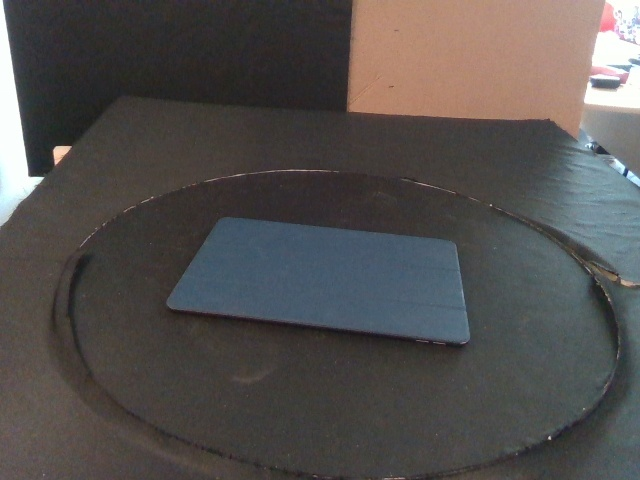laptop: (165, 216, 471, 346)
